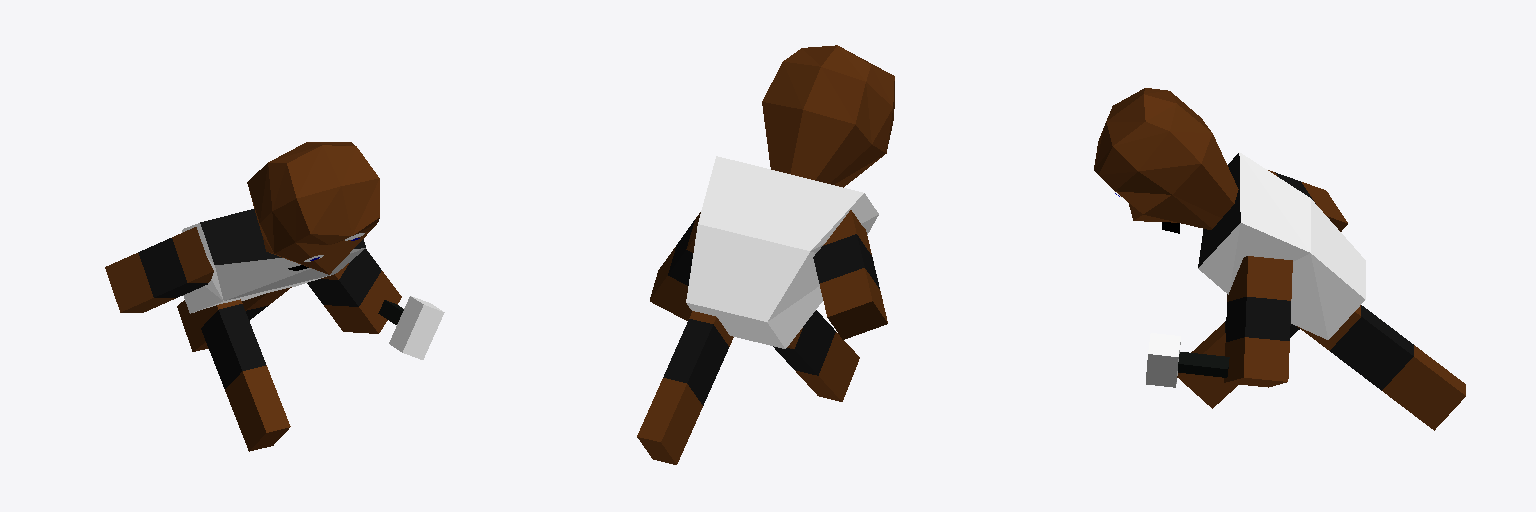
The model's file is slave3f.obj.
3 views of the same model, side by side, from view 1: azimuth 30°, elevation 25°; view 2: azimuth 150°, elevation 25°; view 3: azimuth 270°, elevation 25° (orthographic).
Parts seen in each view (by area): view 1: Cube, Cube.001, Cube.004, Cube.003, Cube.002, Cube.008, Cube.005; view 2: Cube.001, Cube, Cube.005, Cube.003, Cube.004, Cube.002; view 3: Cube.001, Cube, Cube.005, Cube.002, Cube.004, Cube.008, Cube.007, Cube.003.
Part boxes in pixels (left/top/right/bottom): Cube: left=247, top=142, right=379, bottom=274; Cube.001: left=182, top=209, right=365, bottom=313; Cube.004: left=195, top=299, right=290, bottom=451; Cube.003: left=105, top=227, right=213, bottom=312; Cube.002: left=307, top=249, right=401, bottom=333; Cube.008: left=389, top=296, right=444, bottom=359; Cube.005: left=177, top=287, right=291, bottom=351; Cube.001: left=686, top=156, right=878, bottom=348; Cube: left=762, top=45, right=894, bottom=187; Cube.005: left=637, top=311, right=733, bottom=464; Cube.003: left=813, top=210, right=887, bottom=339; Cube.004: left=773, top=310, right=859, bottom=401; Cube.002: left=650, top=212, right=700, bottom=320; Cube.001: left=1198, top=152, right=1365, bottom=339; Cube: left=1094, top=88, right=1238, bottom=229; Cube.005: left=1297, top=305, right=1465, bottom=430; Cube.002: left=1224, top=256, right=1292, bottom=387; Cube.004: left=1177, top=321, right=1299, bottom=408; Cube.008: left=1146, top=333, right=1180, bottom=387; Cube.007: left=1178, top=352, right=1229, bottom=377; Cube.003: left=1268, top=170, right=1347, bottom=231.
Bounding box in the file's own units: 3.66 × 4.4 × 4.61.